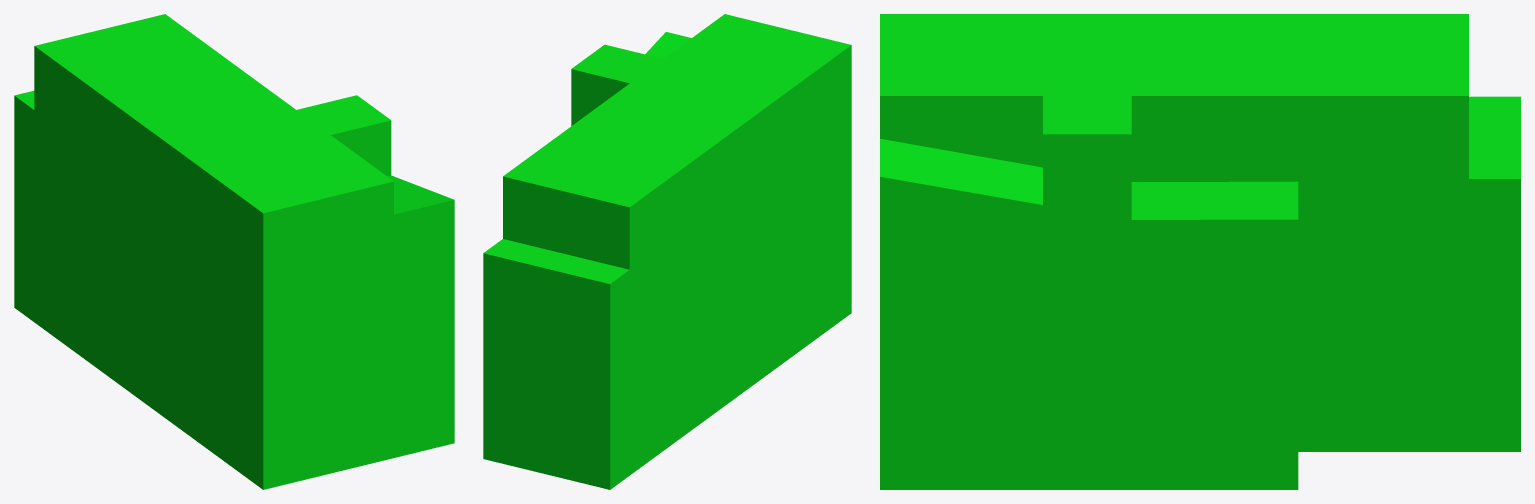
The model's file is Wall_Temple_Break_02_Collider.fbx.
The picture shows the model from 3 angles, left to right: view 1: azimuth 30°, elevation 25°; view 2: azimuth 150°, elevation 25°; view 3: azimuth 270°, elevation 25°; orthographic projection. The views are drawn at different scales.
Visible parts, largest first — view 1: Wall_Temple_Break_02_Collider; view 2: Wall_Temple_Break_02_Collider; view 3: Wall_Temple_Break_02_Collider.
Part boxes in pixels (x1=…): Wall_Temple_Break_02_Collider: x1=14, y1=14, x2=454, y2=489; Wall_Temple_Break_02_Collider: x1=483, y1=14, x2=851, y2=489; Wall_Temple_Break_02_Collider: x1=880, y1=14, x2=1520, y2=489.
Bounding box in the file's own units: 1382 × 1907 × 3113.
